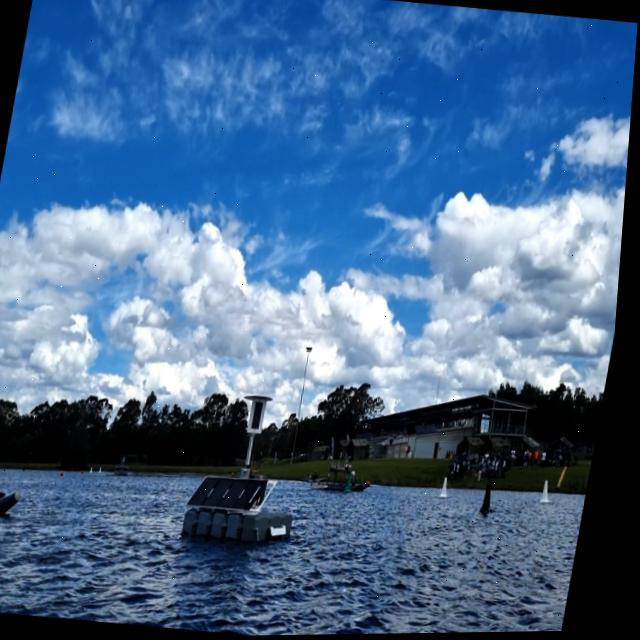led: (255, 400, 273, 433)
